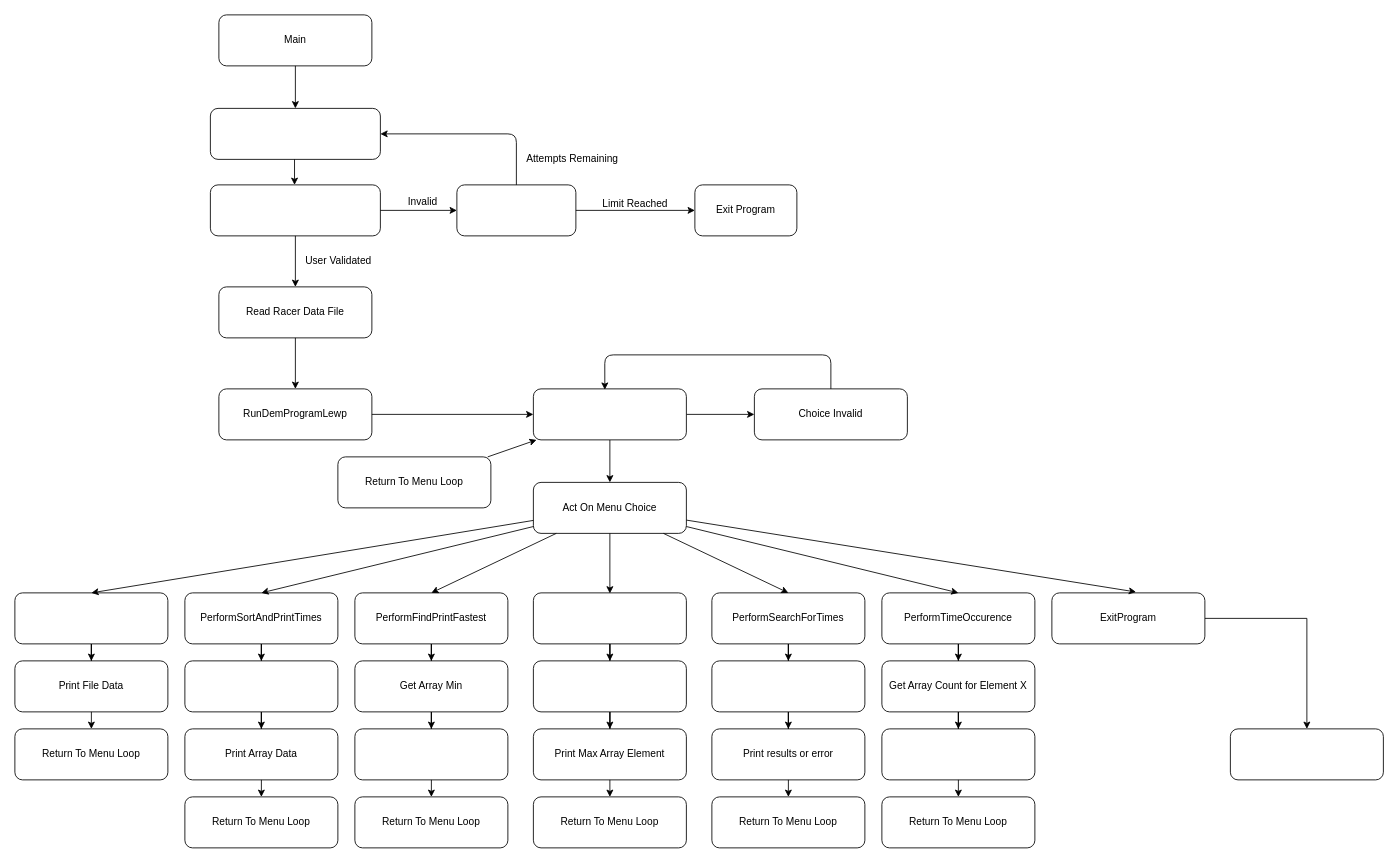
Some shapes in this 1398 by 863 pixel diagram are drawn without their labels. The box of each missing label's shape, as (x1, y1, x2, y2) in pixels:
Check Attempts Limit: (456, 184, 576, 236)
Get Array Max: (533, 660, 686, 712)
PerformFindPrintSlowest: (533, 592, 686, 644)
PerformReadAndDisplayFile: (14, 592, 168, 644)
Print count result: (881, 728, 1035, 780)
Print Min Array Element: (354, 728, 508, 780)
RequestUserMenuChoice: (533, 388, 686, 440)
Search Data Array: (711, 660, 865, 712)
Sort Data Array: (184, 660, 338, 712)
Stop Processing: (1230, 728, 1383, 780)
Validator.CheckIfPasswordValid: (210, 184, 380, 236)
Validator.RequestUserCredentials: (210, 108, 380, 159)
